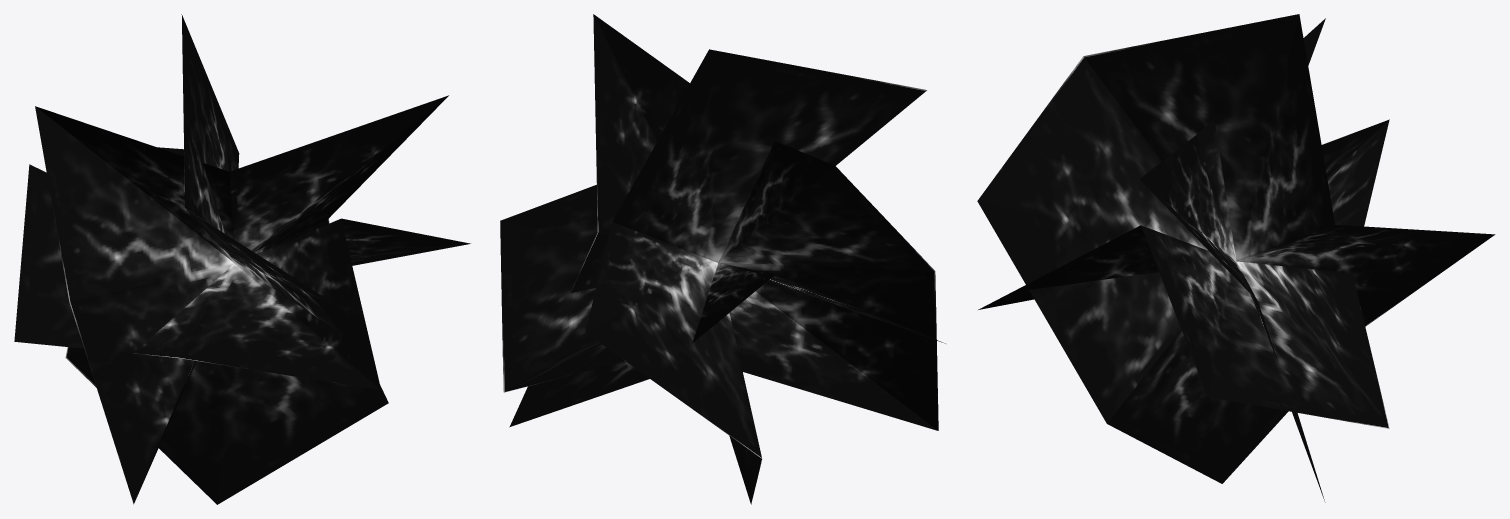
Rendered from bve_elec2_modelT.obj.
The picture shows the model from 3 angles, left to right: view 1: azimuth 30°, elevation 25°; view 2: azimuth 150°, elevation 25°; view 3: azimuth 270°, elevation 25°; orthographic projection. The views are drawn at different scales.
Parts seen in each view (by area): view 1: nodes_2__meshes[0]; view 2: nodes_2__meshes[0]; view 3: nodes_2__meshes[0].
Part boxes in pixels (x1,y1,x2,y2): nodes_2__meshes[0]: [14, 14, 470, 504]; nodes_2__meshes[0]: [500, 14, 945, 504]; nodes_2__meshes[0]: [977, 14, 1495, 502].
Bounding box in the file's own units: 1539 × 1536 × 1531.
1 material, 1 textured.
